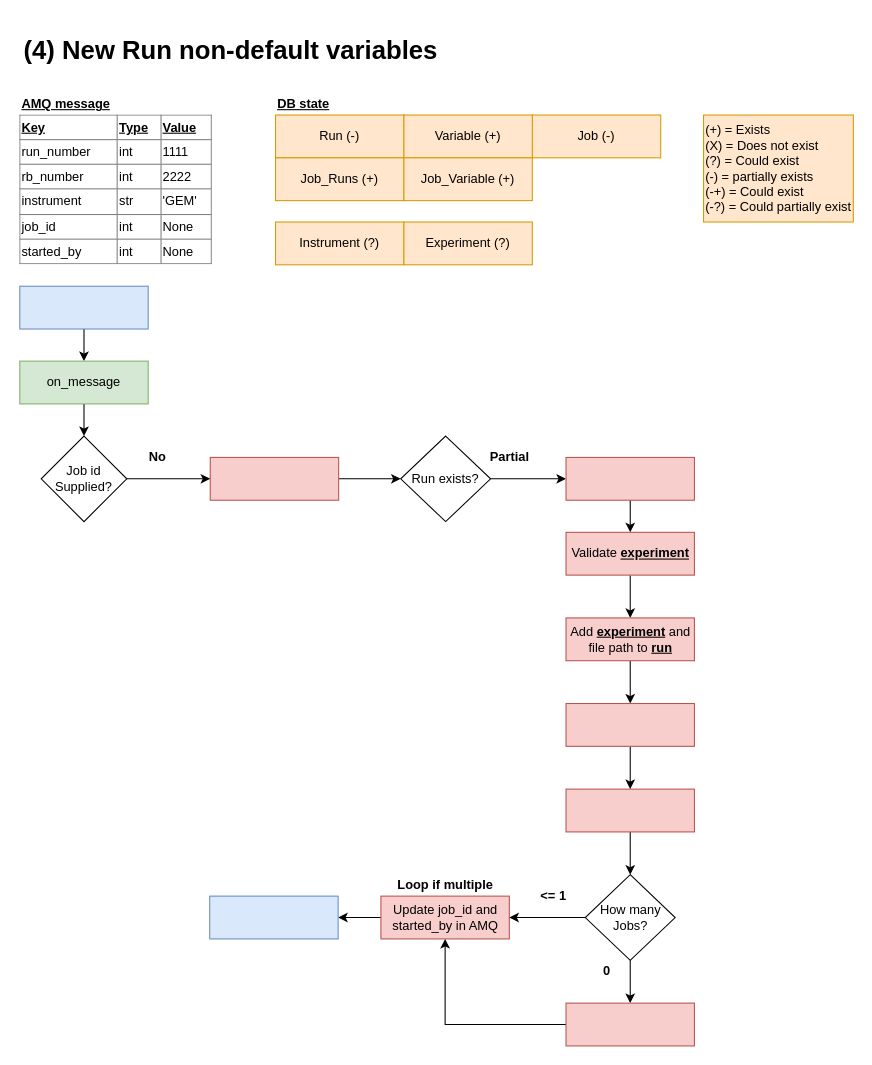
This 872x1065 diagram has some shape labels left out. The shapes that lost their labels are listed below. From the top down, each one's centre as x and y in pixels, then its label:
[83,307]: Data Ready Queue
[274,478]: Query for an existing run
[629,478]: Validate instrument
[629,724]: Query Job_Runs to find all Jobs for run
[629,810]: Find Job with status 'variables set'
[273,917]: Job Pending Queue
[629,1024]: Create new job with default variables
